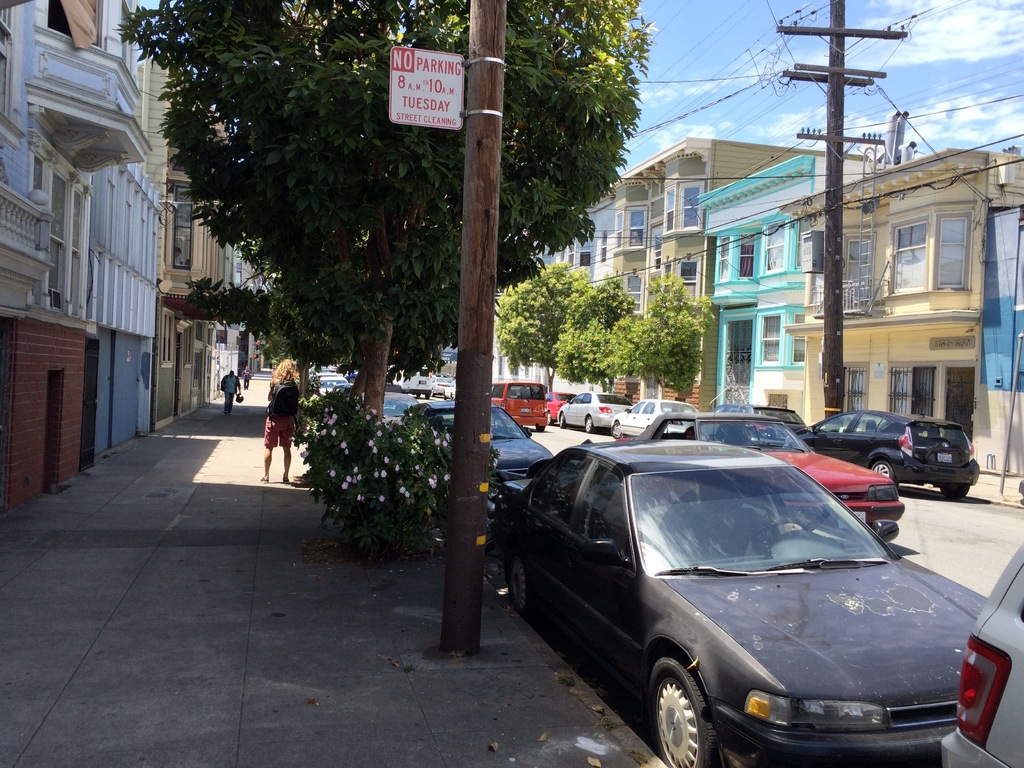cars: (405, 376, 1023, 767), (382, 380, 418, 430), (382, 362, 429, 396), (308, 368, 351, 394), (430, 378, 451, 396)
